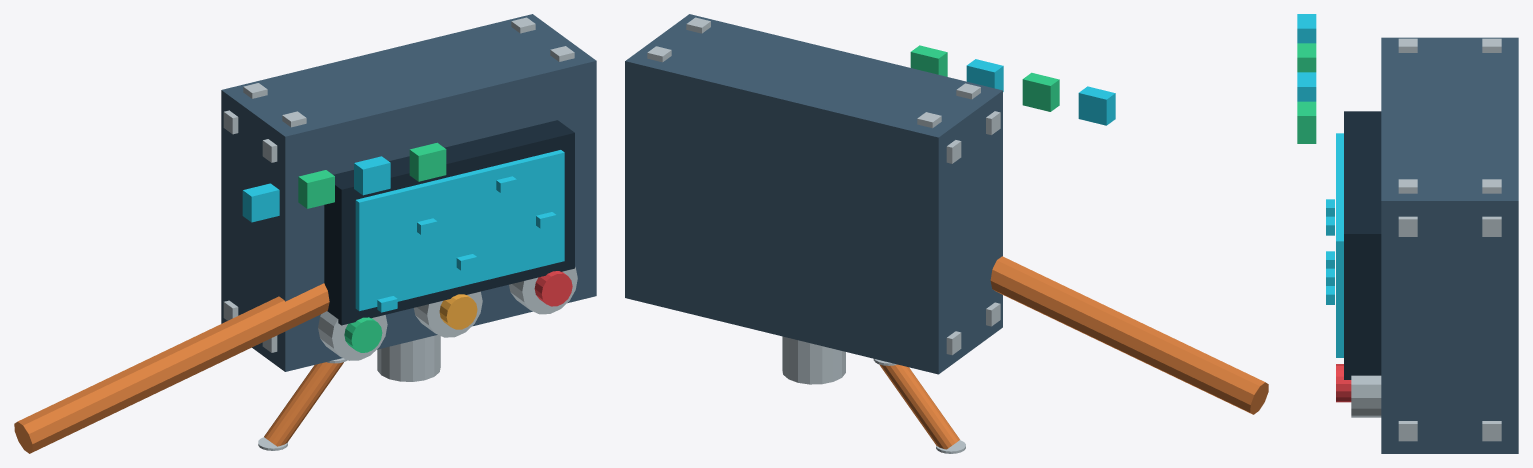
File: 45_L79_BondTemperatureSensor.fbx
The picture shows the model from 3 angles, left to right: view 1: azimuth 30°, elevation 25°; view 2: azimuth 150°, elevation 25°; view 3: azimuth 270°, elevation 25°; orthographic projection. The views are drawn at different scales.
Visible parts, largest first — view 1: BondTemperatureSensor; view 2: BondTemperatureSensor; view 3: BondTemperatureSensor.
Boxes of the visible parts, bbox=[...] form: BondTemperatureSensor: bbox=[14, 14, 596, 453]; BondTemperatureSensor: bbox=[625, 14, 1268, 453]; BondTemperatureSensor: bbox=[1297, 14, 1518, 453].
Size of the model in its own units: 93.62 by 53.77 by 28.89.
